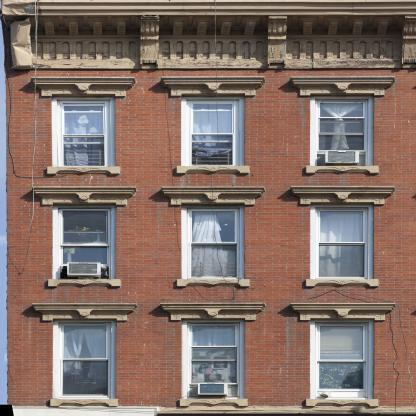Building Outline: (0, 0, 416, 416)
Cornice: (158, 76, 267, 97), (287, 76, 395, 97), (30, 76, 137, 97), (158, 186, 267, 206), (287, 186, 396, 206), (30, 186, 137, 206), (288, 302, 397, 321), (159, 302, 267, 321), (30, 303, 137, 321)
Facade: (0, 0, 416, 416)
Floor: (8, 189, 416, 301), (7, 305, 415, 412)
Floor Slab: (8, 185, 415, 189), (8, 301, 415, 305), (14, 412, 415, 416)
Molding: (5, 15, 416, 68)
Sill: (176, 165, 250, 175), (305, 165, 379, 175), (176, 398, 250, 407), (305, 399, 379, 408), (176, 278, 250, 287), (305, 279, 379, 288), (46, 399, 120, 407), (46, 279, 120, 287), (47, 167, 120, 175)
Top Floor: (8, 68, 416, 185)
Window: (316, 323, 368, 399), (188, 322, 239, 399), (59, 323, 110, 399), (317, 208, 368, 279), (57, 99, 110, 167), (188, 208, 239, 278), (59, 208, 109, 279), (316, 99, 368, 166), (187, 99, 239, 166)
